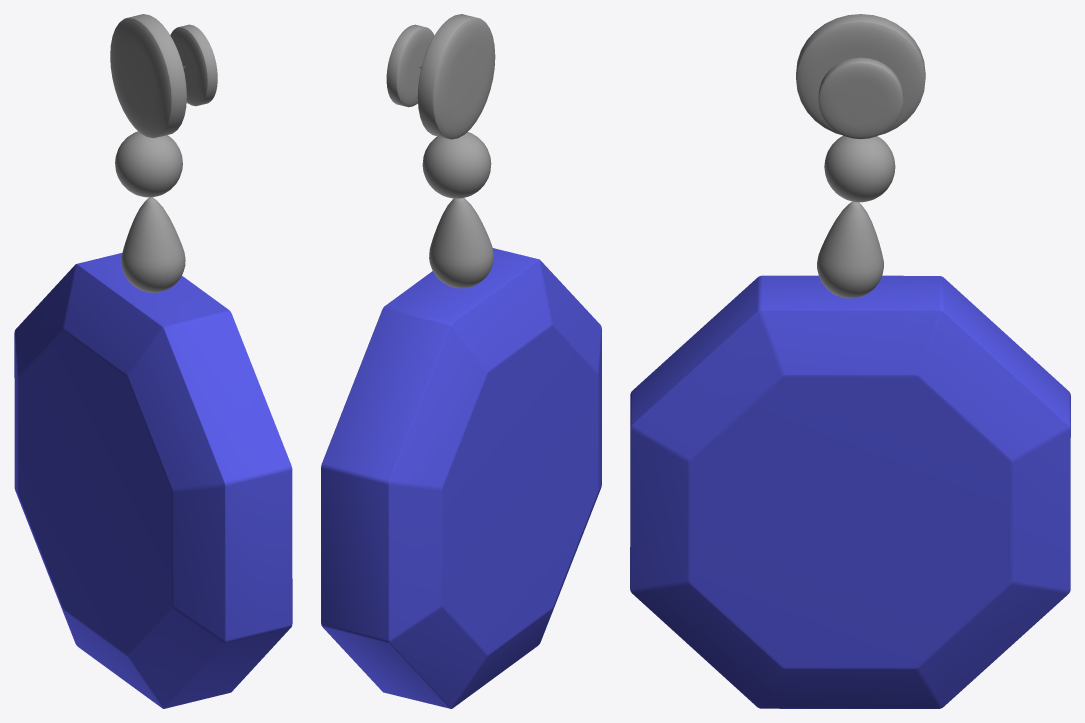
Rendered from Sapphire Earring.fbx.
3 renders of one model, left to right at view 1: azimuth 30°, elevation 25°; view 2: azimuth 150°, elevation 25°; view 3: azimuth 270°, elevation 25°, orthographic. The views are drawn at different scales.
Parts seen in each view (by area): view 1: Sphere; view 2: Sphere; view 3: Sphere.
Boxes of the visible parts, x1,y1,x2,y2 form: Sphere: [14, 14, 292, 708]; Sphere: [321, 14, 601, 708]; Sphere: [630, 14, 1070, 708].
Size of the model in its own units: 7.47 by 39.57 by 23.42.
